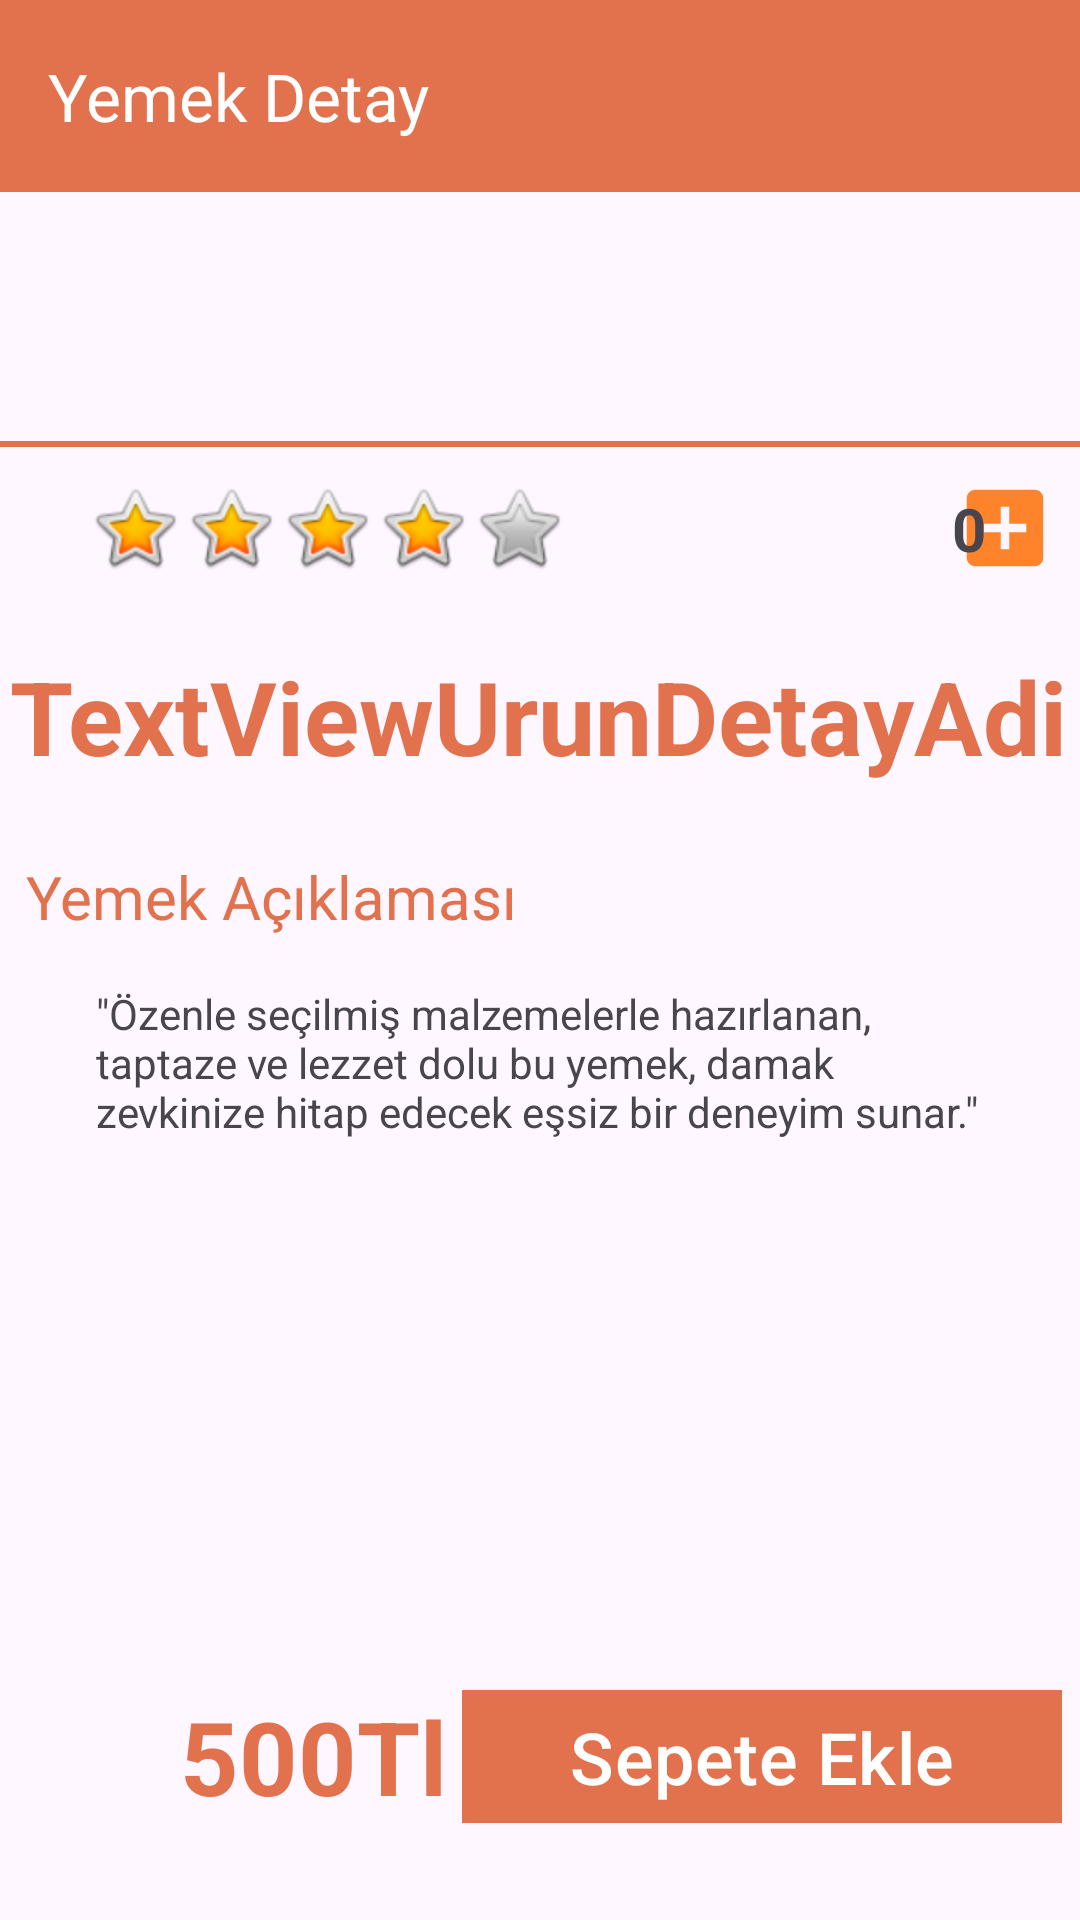

Screen size 1080 × 1920. Icon name, then its center in pixels as [x,y]:
star off: [520,529]
star on: [136,529], [232,529], [328,529], [424,529]
